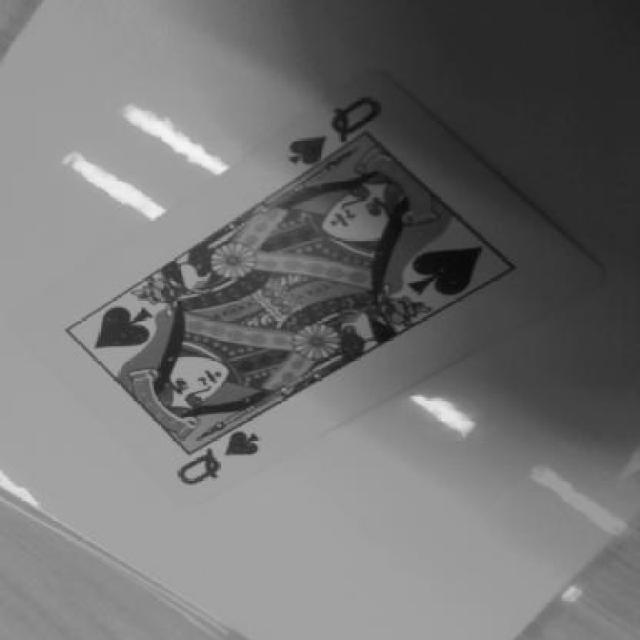QS: (277, 83, 409, 179), (150, 413, 299, 495)
